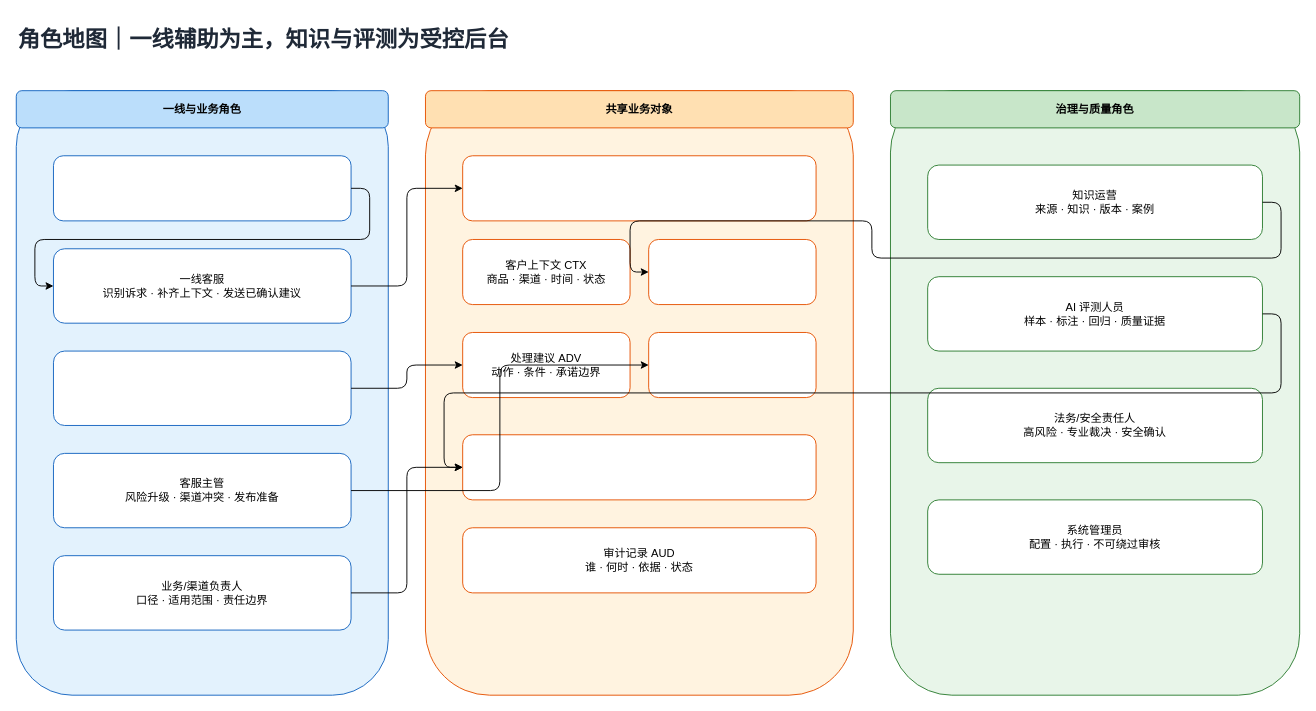
The diagram is 1316 pixels wide and 711 high, and some of its shapes have lost their labels. Here are the shapes that lost their labels. From the top down, the centre of each, then its label:
(202,188): 消费者 提出诉求 · 提供证据 · 确认结果
(639,188): 咨询任务 ASQ 诉求 · 状态 · 负责角色
(732,272): 证据 EVD 知识版本 · 适用范围
(732,365): 风险升级单 ESC 止损 · 升级 · 独立闭环
(202,387): 售后专员 故障 · 退换修 · 检测 · 服务路径
(639,467): 问题案例 CASE 证据 · 原因 · 修复 · 回归
